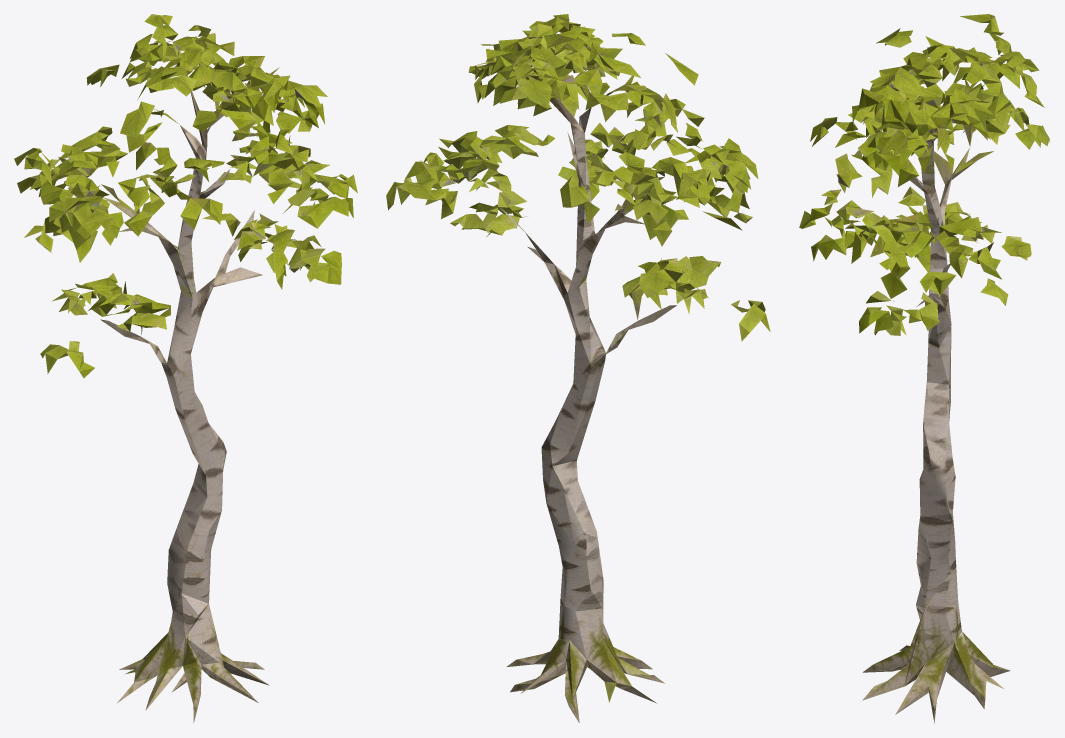
File: VEG-009.glb
3 views of the same model, side by side, from view 1: azimuth 30°, elevation 25°; view 2: azimuth 150°, elevation 25°; view 3: azimuth 270°, elevation 25° (orthographic). The views are drawn at different scales.
Parts seen in each view (by area): view 1: VEG-009_LOD0; view 2: VEG-009_LOD0; view 3: VEG-009_LOD0.
Boxes of the visible parts, left/top/right/bottom form: VEG-009_LOD0: left=14, top=14, right=357, bottom=723; VEG-009_LOD0: left=386, top=14, right=770, bottom=722; VEG-009_LOD0: left=799, top=14, right=1050, bottom=723.
Size of what is drawn, in the model's own units: 5.66 by 11 by 3.75.
1 material, 1 textured.
